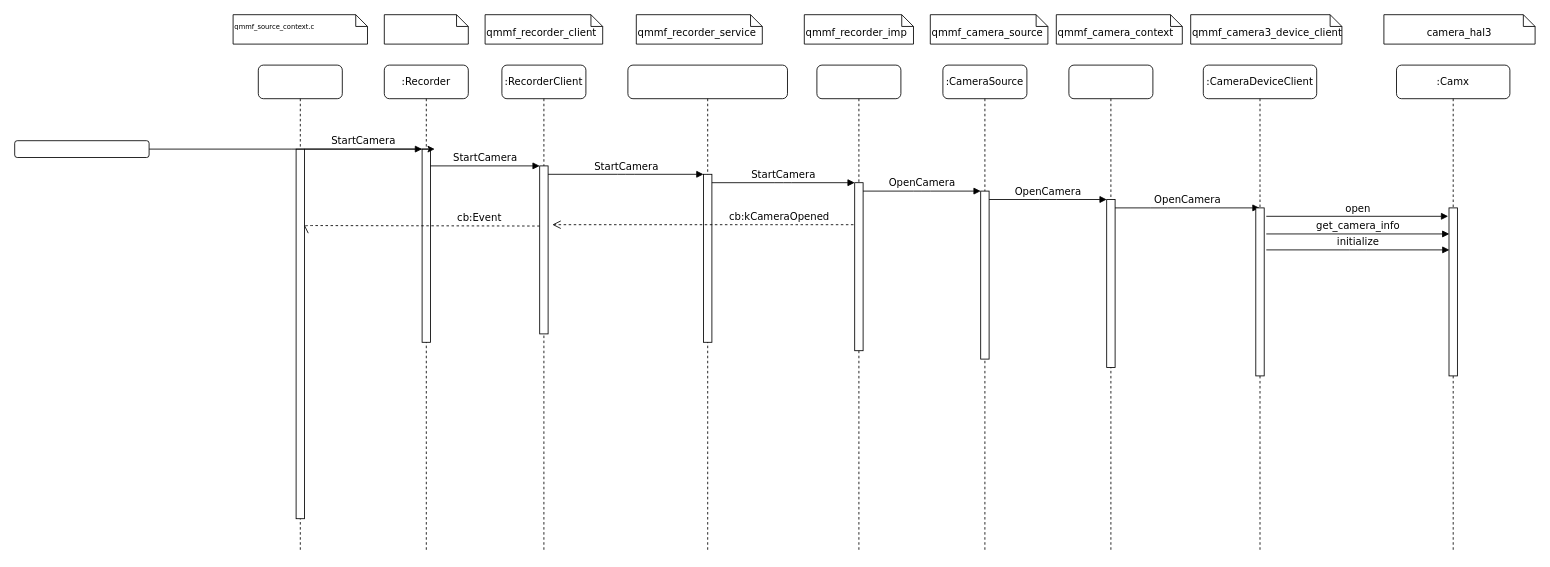
The diagram is 1550 pixels wide and 567 high, and some of its shapes have lost their labels. Each missing label, with the box of its shape:
:CameraContext: (1068, 64, 1153, 552)
:Object: (257, 64, 342, 552)
:RecorderImp: (816, 64, 901, 552)
gst_qmmf_context_open: (14, 140, 149, 158)
qmmf_record.c: (383, 14, 468, 44)
RecorderService: BnInterface<IRcoiderService>: (627, 64, 788, 552)
